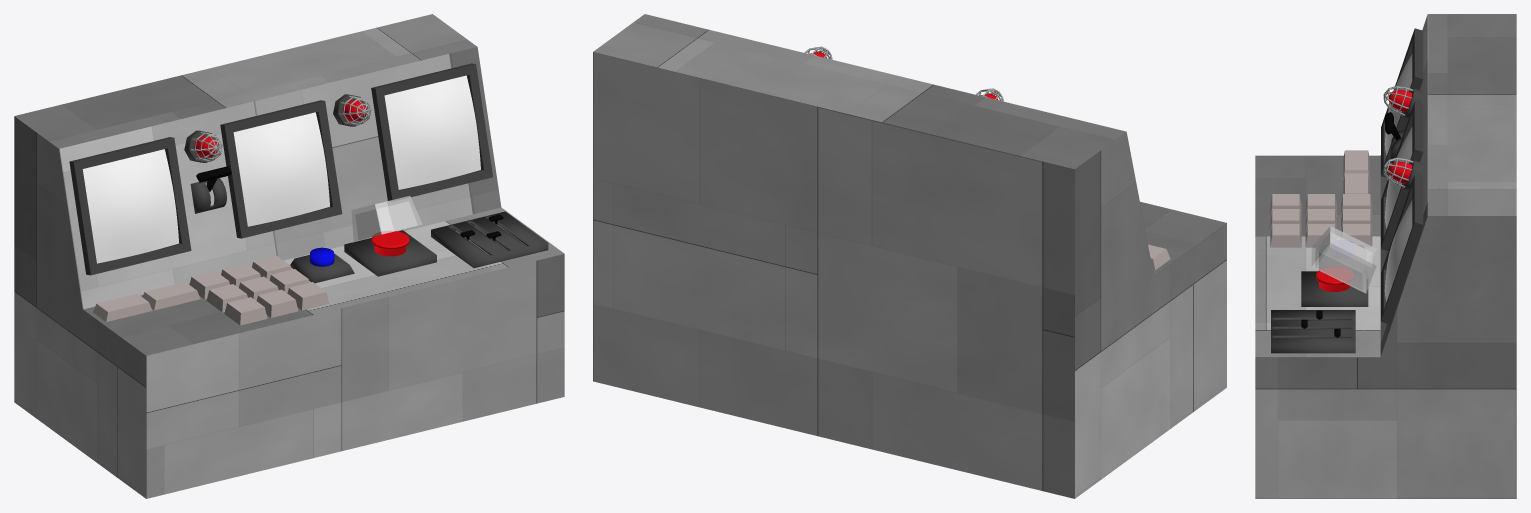
Rendered from ControlCenter.glb.
3 renders of one model, left to right at view 1: azimuth 30°, elevation 25°; view 2: azimuth 150°, elevation 25°; view 3: azimuth 270°, elevation 25°, orthographic. The views are drawn at different scales.
Parts seen in each view (by area): view 1: Chasis, Bezle, Screen3, Screen2, Screen1, Slider Housing, Emergency Button Cover, Big Red Button Housing, Switching Ships Button.001, Switching Ships Button, Send Command Housing, Lever Housing (+8 smaller); view 2: Chasis; view 3: Chasis, Bezle, Slider Housing, Emergency Button Cover, Big Red Button Housing, Screen3, Big Red Button, Screen2, Buttons.006, Switching Ships Button.001, Buttons, Screen1 (+12 smaller).
Part boxes in pixels (x1=…): Chasis: x1=14, y1=14, x2=564, y2=498; Bezle: x1=69, y1=63, x2=492, y2=275; Screen3: x1=384, y1=75, x2=480, y2=189; Screen2: x1=233, y1=112, x2=329, y2=226; Screen1: x1=82, y1=149, x2=179, y2=263; Slider Housing: x1=431, y1=211, x2=548, y2=268; Emergency Button Cover: x1=351, y1=196, x2=422, y2=241; Big Red Button Housing: x1=344, y1=230, x2=436, y2=276; Switching Ships Button.001: x1=93, y1=293, x2=152, y2=321; Switching Ships Button: x1=142, y1=282, x2=200, y2=310; Send Command Housing: x1=290, y1=254, x2=354, y2=283; Lever Housing: x1=190, y1=178, x2=226, y2=213; Chasis: x1=593, y1=14, x2=1226, y2=498; Chasis: x1=1255, y1=14, x2=1516, y2=498; Bezle: x1=1381, y1=28, x2=1423, y2=324; Slider Housing: x1=1271, y1=310, x2=1355, y2=353; Emergency Button Cover: x1=1311, y1=226, x2=1376, y2=293; Big Red Button Housing: x1=1301, y1=271, x2=1368, y2=306; Screen3: x1=1384, y1=200, x2=1412, y2=301; Big Red Button: x1=1316, y1=267, x2=1353, y2=291; Screen2: x1=1384, y1=127, x2=1412, y2=228; Buttons.006: x1=1270, y1=224, x2=1301, y2=247; Switching Ships Button.001: x1=1343, y1=150, x2=1369, y2=179; Buttons: x1=1341, y1=224, x2=1372, y2=247; Screen1: x1=1384, y1=53, x2=1412, y2=155.
Size of the model in its own units: 3.06 by 2 by 1.67.
10 materials, 1 textured.
